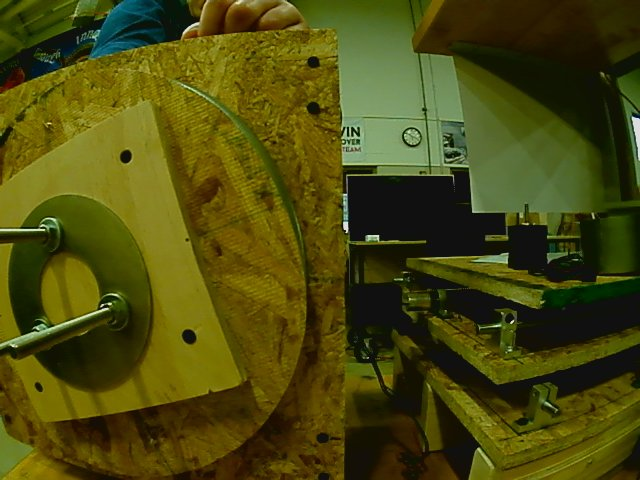bolt: (95, 291, 134, 333), (35, 215, 66, 258), (29, 318, 56, 354)
